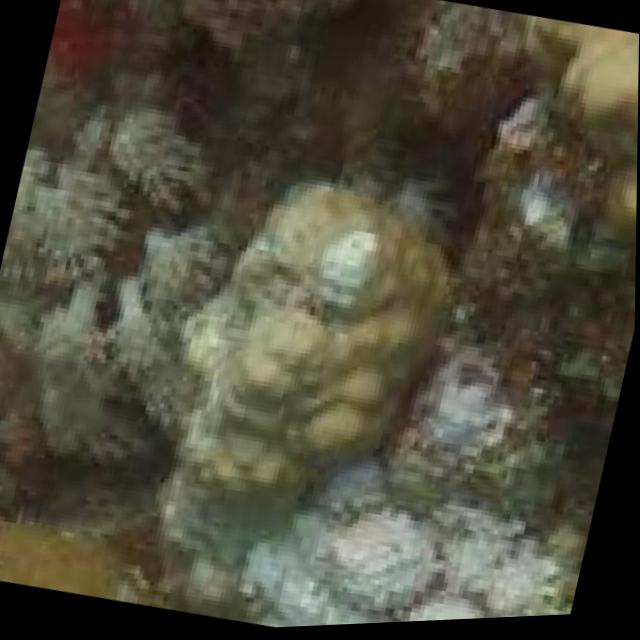Bleached Coral: (0, 111, 234, 456), (246, 460, 592, 631)
